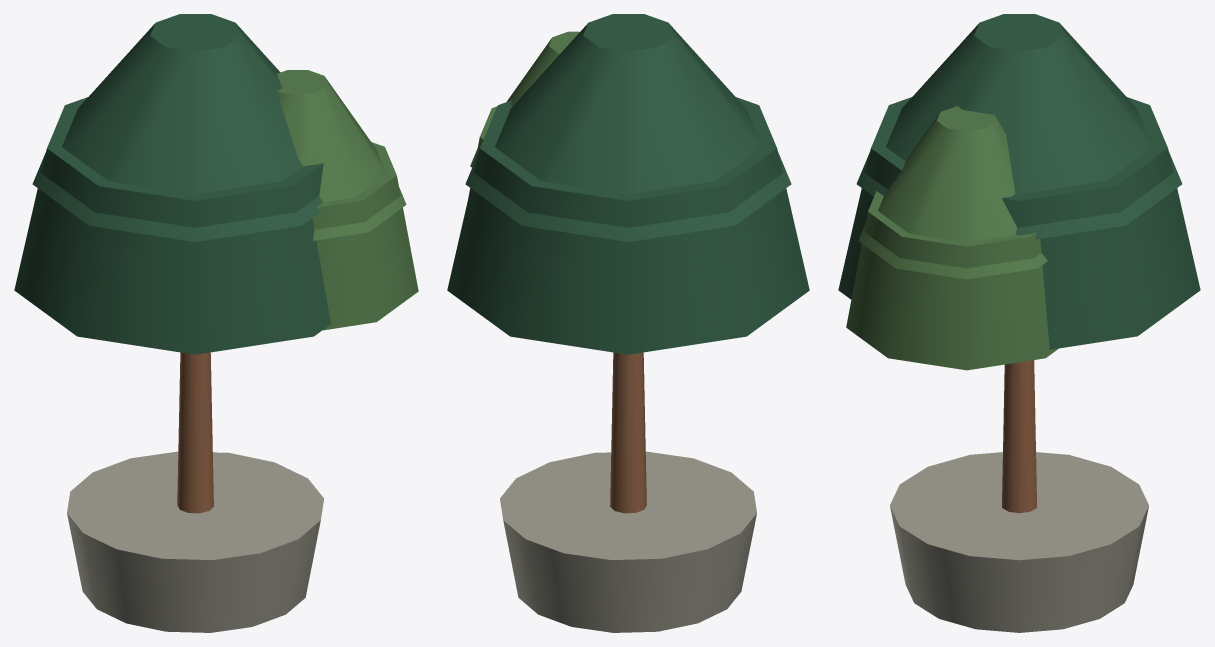
The model's file is planter-tree.glb.
The picture shows the model from 3 angles, left to right: view 1: azimuth 30°, elevation 25°; view 2: azimuth 150°, elevation 25°; view 3: azimuth 270°, elevation 25°; orthographic projection.
Visible parts, largest first — view 1: planter-tree; view 2: planter-tree; view 3: planter-tree.
Boxes of the visible parts, x1,y1,x2,y2 form: planter-tree: (14, 14, 418, 632); planter-tree: (447, 14, 809, 632); planter-tree: (838, 14, 1200, 632).
Size of the model in its own units: 2.19 by 3.48 by 2.07.
